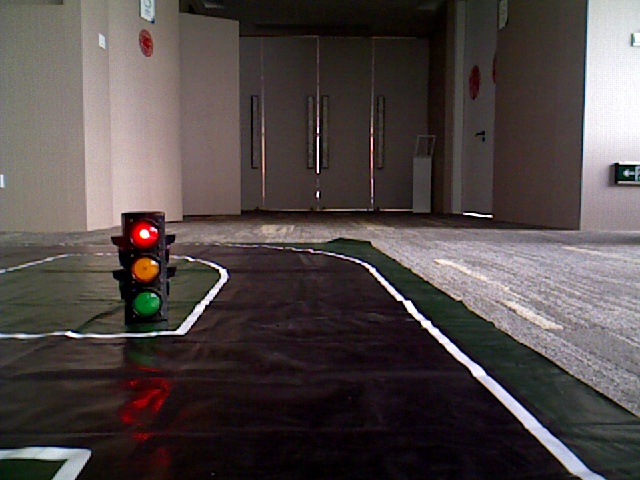red: (121, 218, 162, 318)
